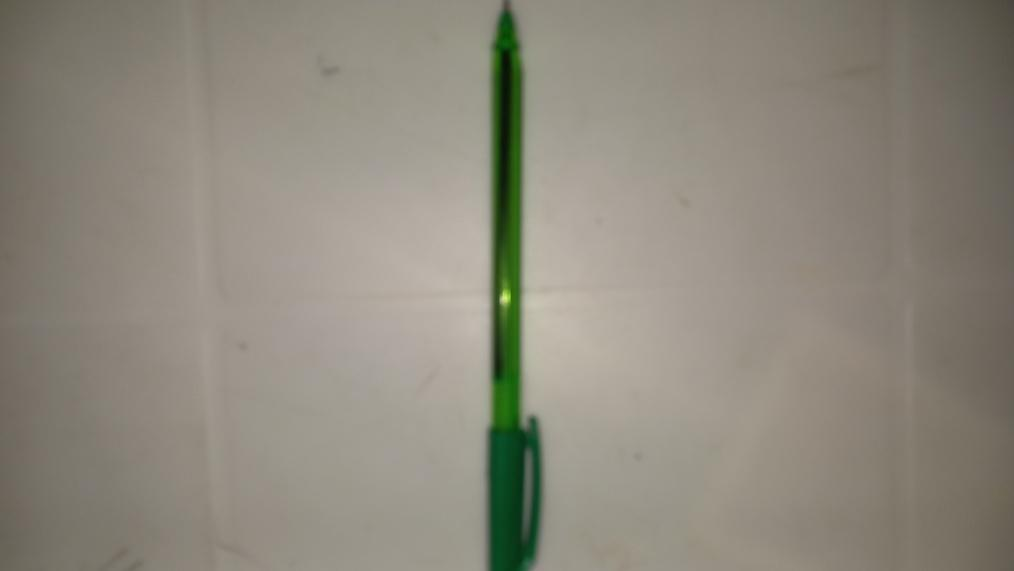pen: (488, 0, 545, 569)
